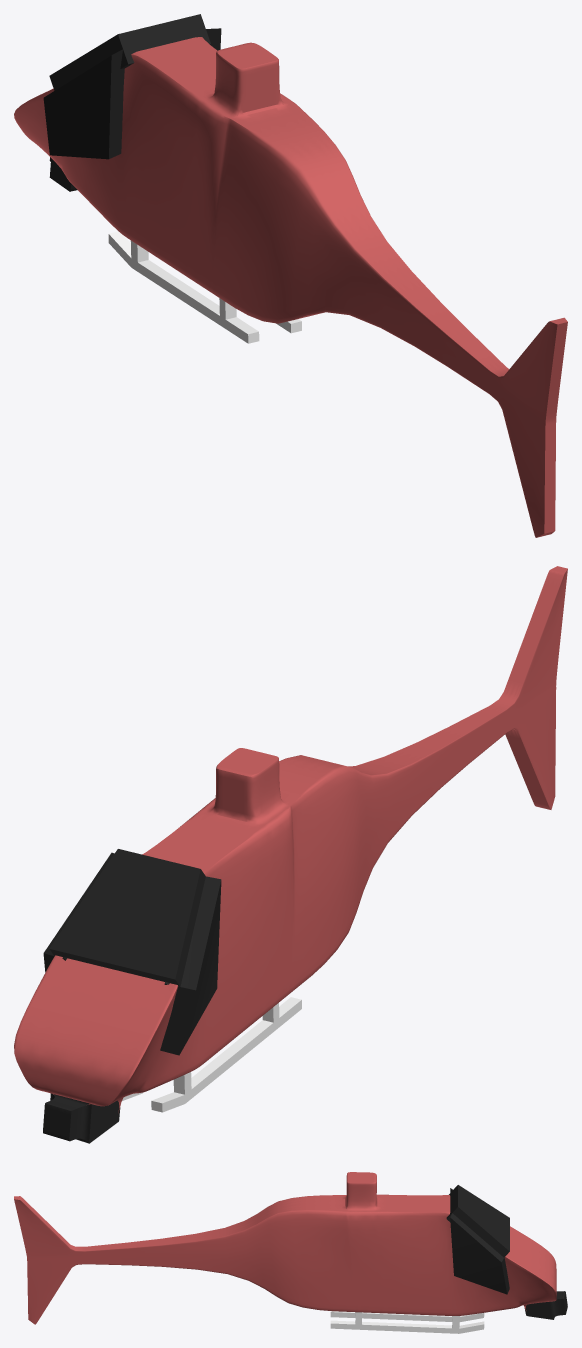
File: Helicopter.glb
The picture shows the model from 3 angles, top to bottom: view 1: azimuth 30°, elevation 25°; view 2: azimuth 150°, elevation 25°; view 3: azimuth 270°, elevation 25°; orthographic projection. The views are drawn at different scales.
Visible parts, largest first — view 1: BODY, WINDSHIELD, LEGS; view 2: BODY, WINDSHIELD, LEGS, CAMERA; view 3: BODY, WINDSHIELD, LEGS, CAMERA.
Part boxes in pixels (bbox=[...]): BODY: bbox=[14, 37, 567, 537]; WINDSHIELD: bbox=[43, 14, 221, 159]; LEGS: bbox=[108, 231, 301, 343]; BODY: bbox=[14, 566, 567, 1112]; WINDSHIELD: bbox=[43, 849, 221, 1055]; LEGS: bbox=[122, 997, 301, 1112]; CAMERA: bbox=[43, 1093, 120, 1143]; BODY: bbox=[14, 1172, 556, 1324]; WINDSHIELD: bbox=[446, 1185, 509, 1294]; LEGS: bbox=[330, 1311, 484, 1333]; CAMERA: bbox=[524, 1291, 567, 1319].
Size of the model in its own units: 0.0545 by 0.0924 by 0.3113.
